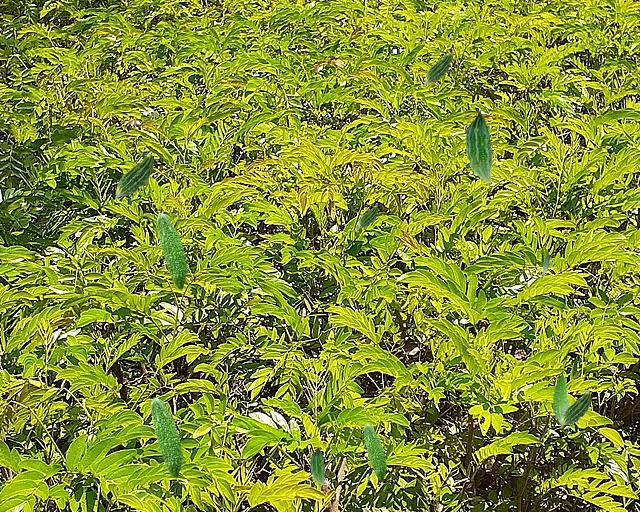ampalaya: (150, 397, 184, 482), (156, 212, 188, 293), (464, 109, 494, 183), (114, 153, 153, 200), (363, 423, 387, 484), (560, 390, 591, 428), (551, 371, 570, 425), (423, 52, 451, 86), (309, 446, 326, 486), (356, 205, 378, 230), (542, 252, 550, 277)
